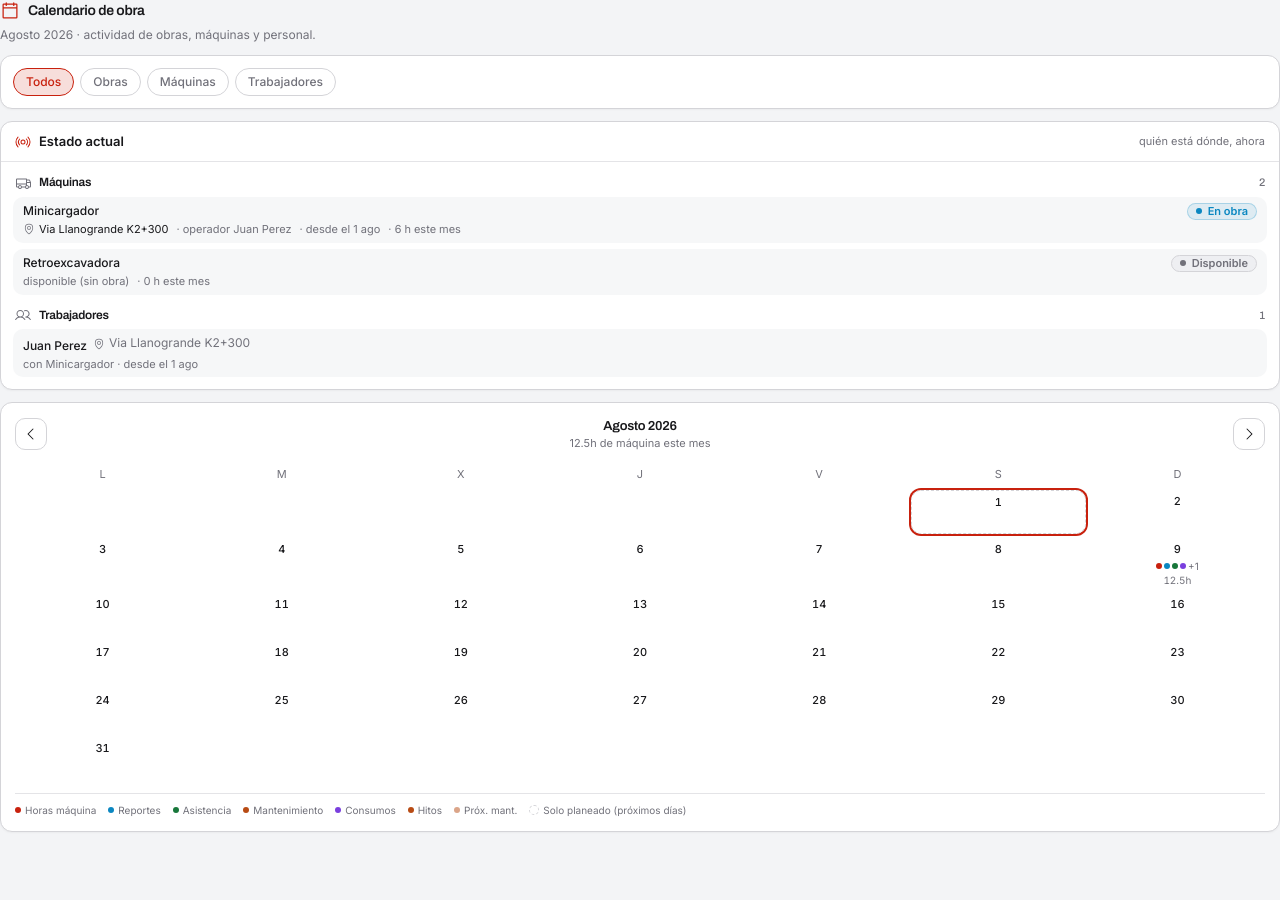
it: CalendarioObra — calendario de obra (/calendario) › clic en un día abre el detalle y renderiza las secciones con nombres del payload
The width and height of the screenshot is (1280, 900).
Click the button named "2 horas máquina": (1177, 563) [1090, 538, 1265, 589]
(page scrolled)
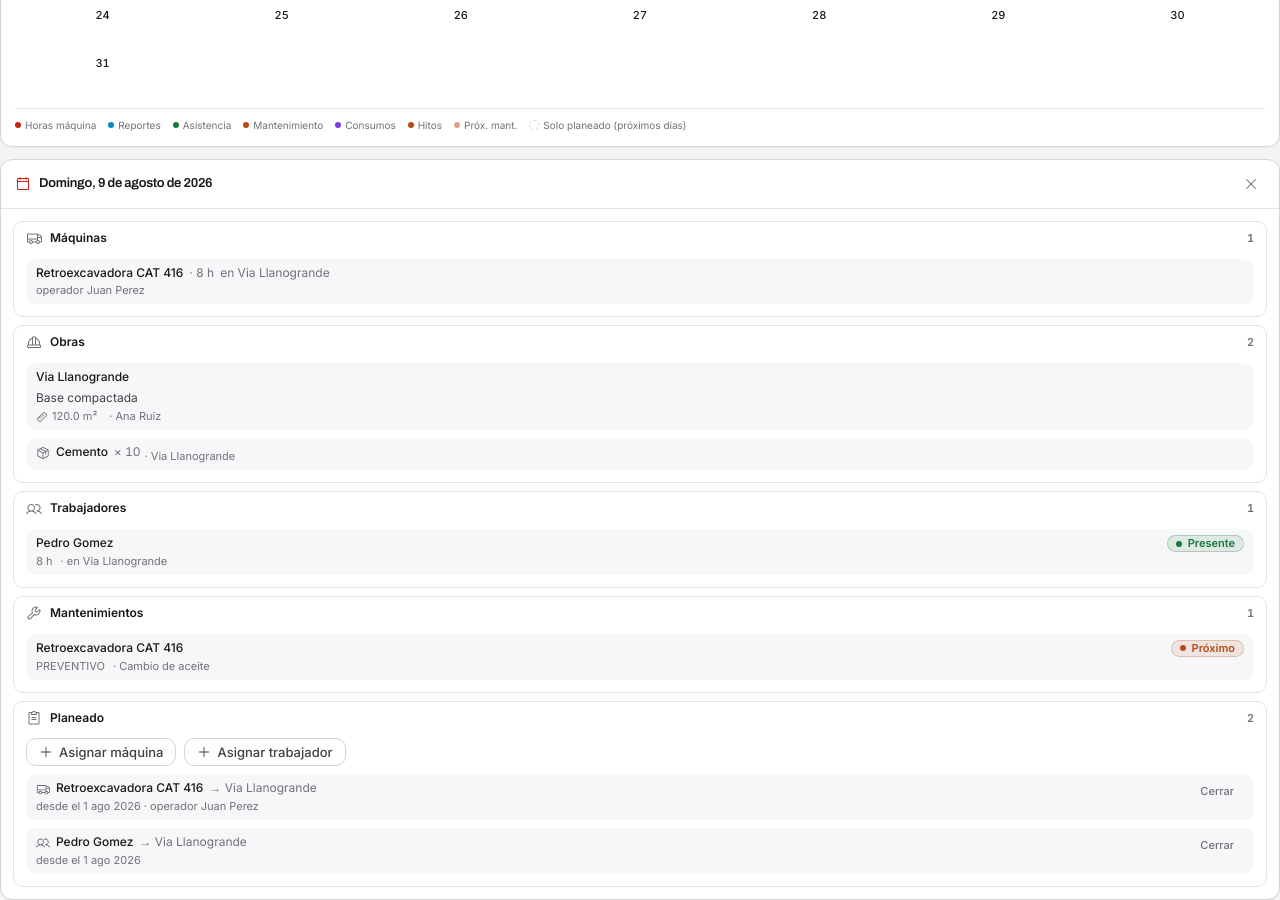
Check: the 1st text "Retroexcavadora CAT 416" is shown, box [36, 265, 183, 281]
Check: the text "Base compactada" is shown, box [36, 390, 138, 405]
Check: the text "Pedro Gomez" in the row of "Presente" is shown, box [36, 535, 113, 550]
